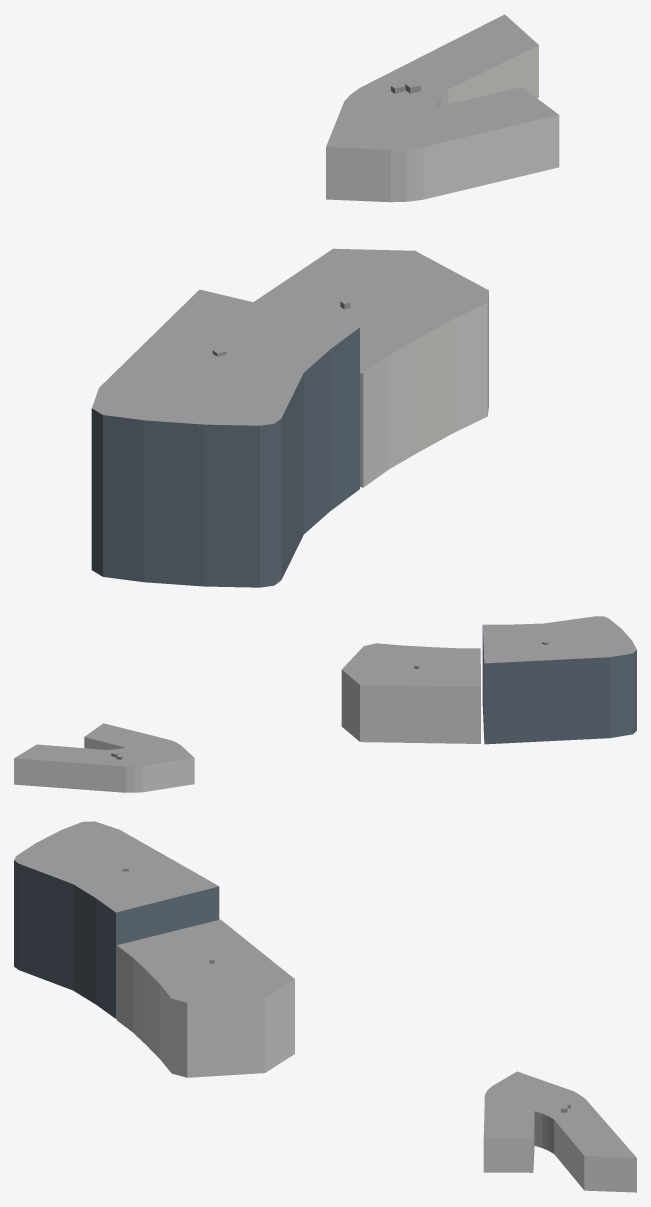
The model's file is building_3_3.glb.
3 renders of one model, top to bottom at view 1: azimuth 30°, elevation 25°; view 2: azimuth 150°, elevation 25°; view 3: azimuth 270°, elevation 25°, orthographic. The views are drawn at different scales.
Visible parts, largest first — view 1: roof, glass_dark, concrete_light; view 2: roof, concrete_light, glass_dark; view 3: roof, concrete_light, glass_dark.
Boxes of the visible parts, bbox=[...] form: roof: bbox=[92, 14, 558, 425]; glass_dark: bbox=[91, 327, 359, 587]; concrete_light: bbox=[326, 45, 559, 487]; roof: bbox=[14, 616, 636, 766]; concrete_light: bbox=[14, 670, 480, 792]; glass_dark: bbox=[482, 626, 636, 744]; roof: bbox=[14, 821, 636, 1157]; concrete_light: bbox=[116, 945, 636, 1192]; glass_dark: bbox=[14, 860, 219, 1018].
Bounding box in the file's own units: 229 × 43.94 × 228.
